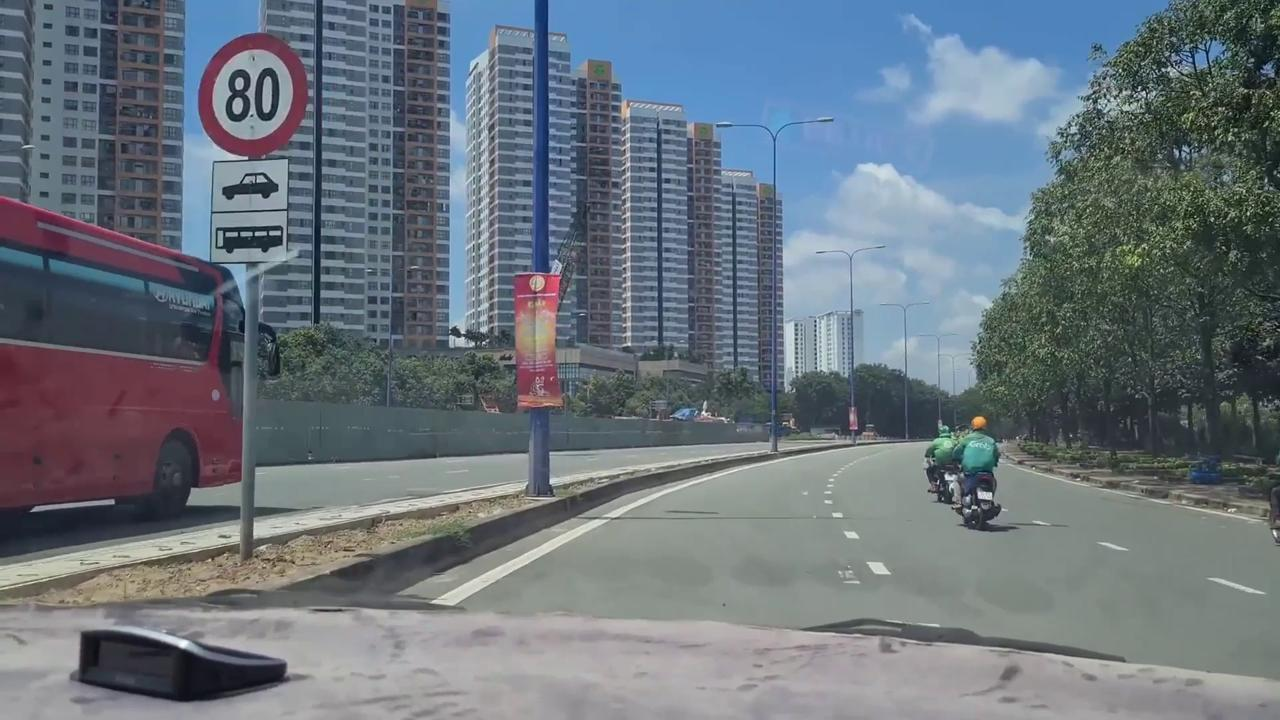Biển phụ: (207, 158, 290, 265)
Giới hạn tốc độ 80Km/h: (194, 26, 312, 159)
